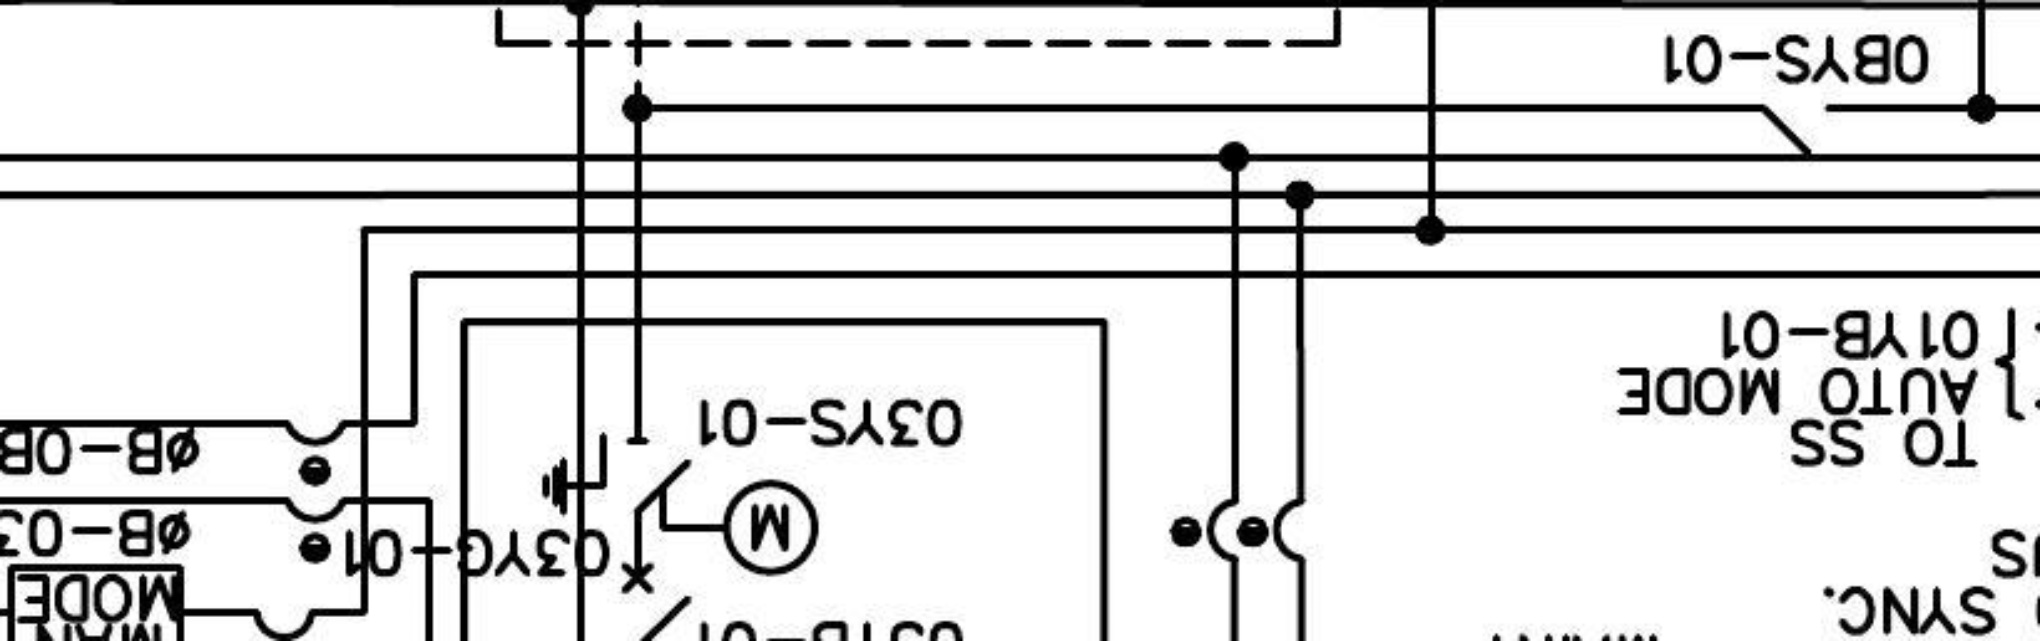115_3ways_ds_w_motor: (540, 432, 822, 579)
115_ds: (1760, 103, 1836, 153)
